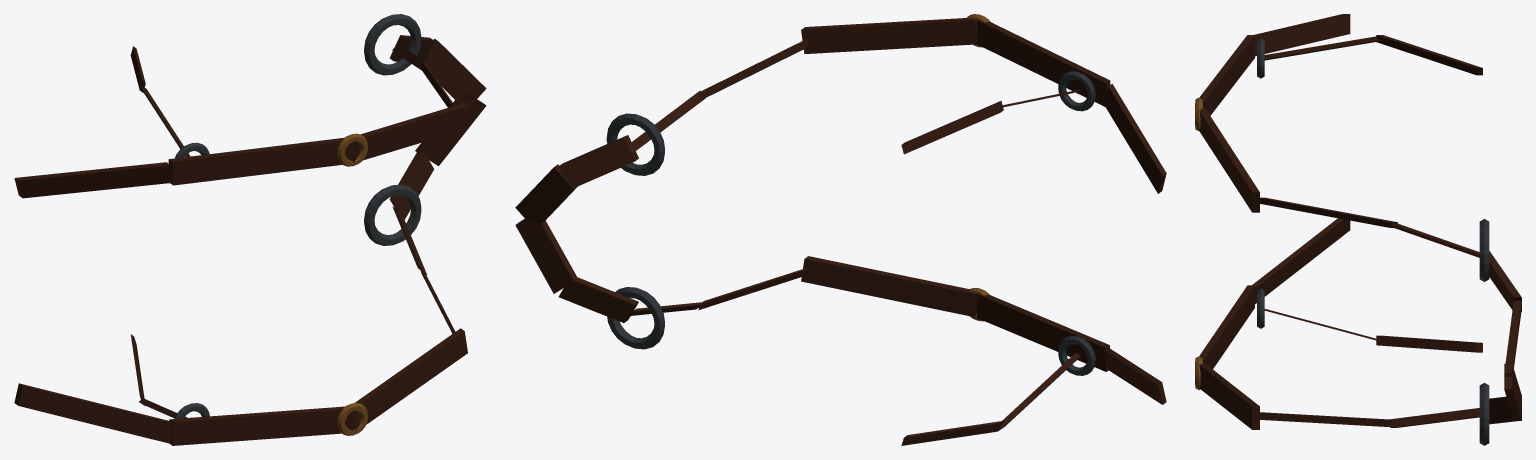
The model's file is bridle_LOD0.obj.
3 views of the same model, side by side, from view 1: azimuth 30°, elevation 25°; view 2: azimuth 150°, elevation 25°; view 3: azimuth 270°, elevation 25° (orthographic). The views are drawn at different scales.
Size of the model in its own units: 1.29 by 0.7196 by 0.6865.
